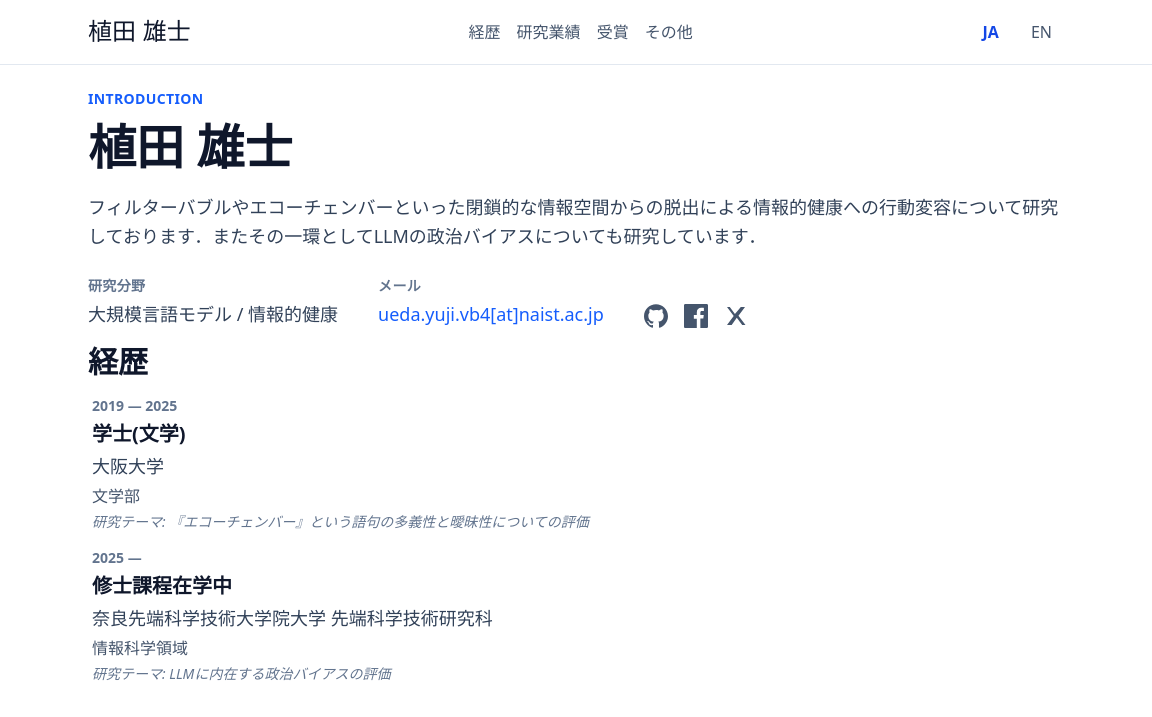
it: Home page › switches language to English when EN is selected
Click the button "EN" at (1041, 32), box [1019,16,1064,48]
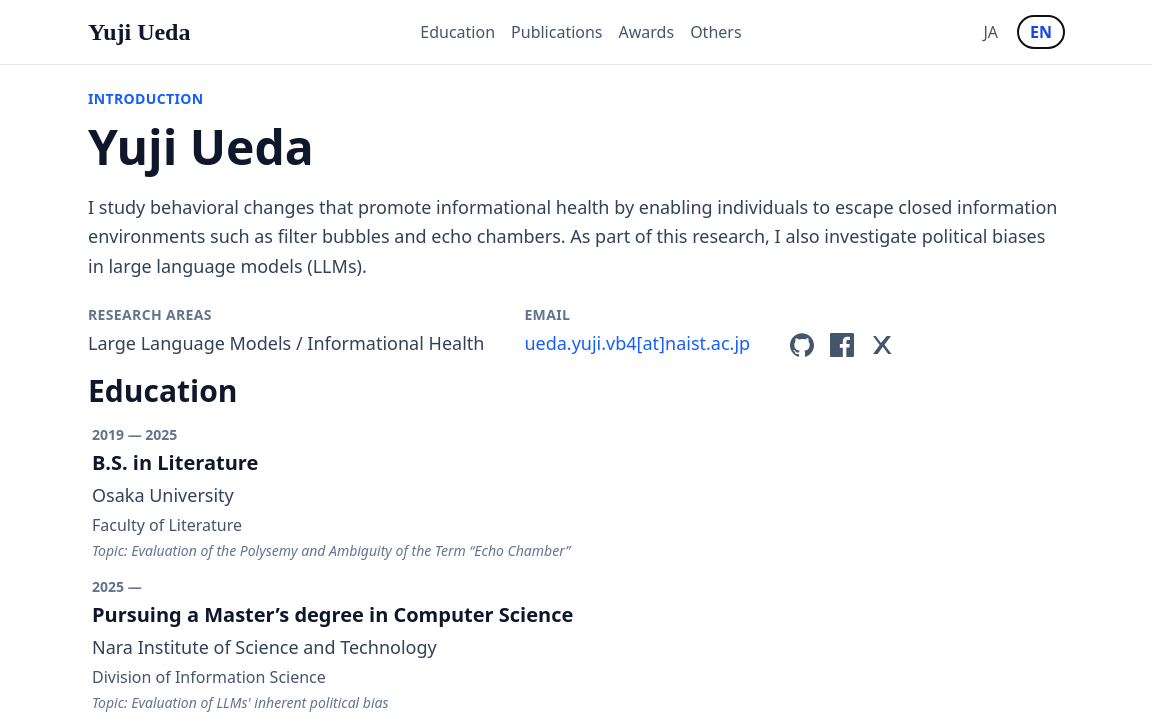
Result: the heading "Yuji Ueda" is shown at [88,114,314,179]
